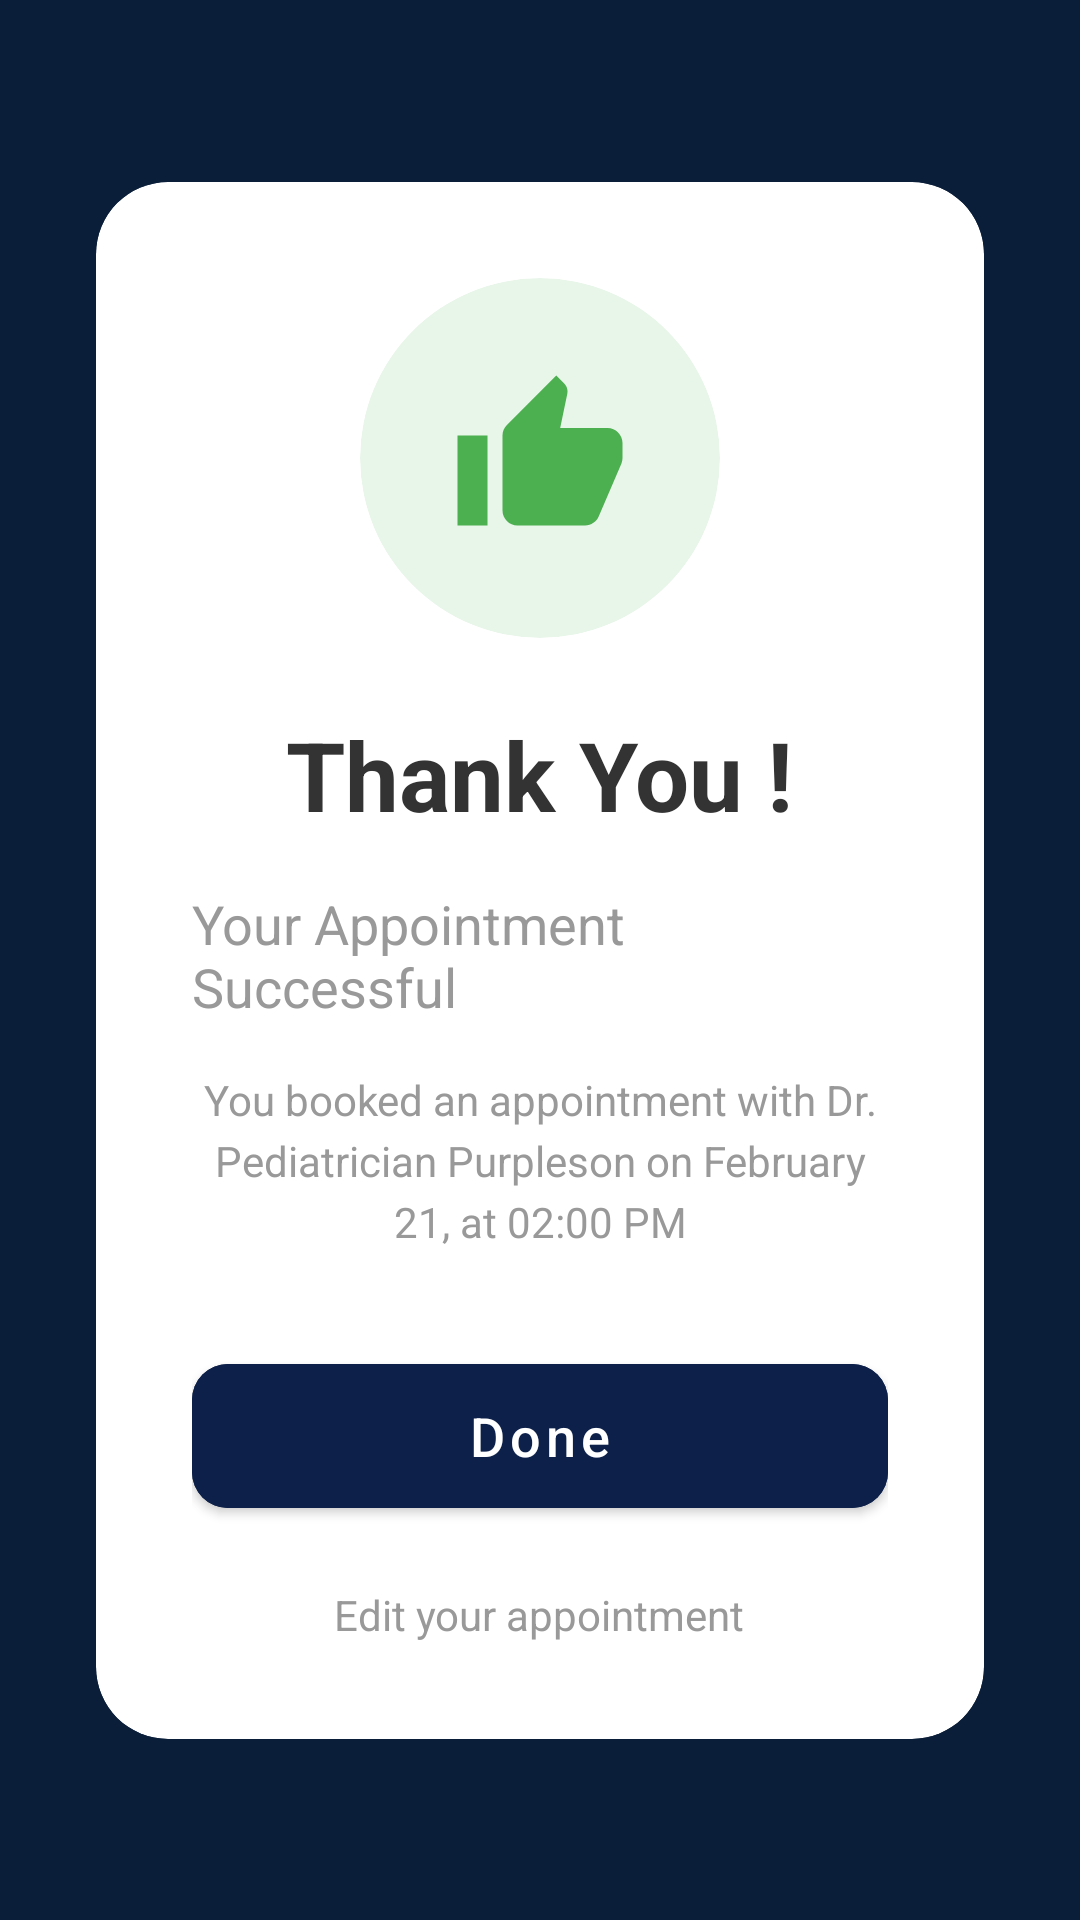

Point at icon controls on the screen. Image size 1080 × 1920, points as point (x, y).
thumbs up: point (540, 450)
